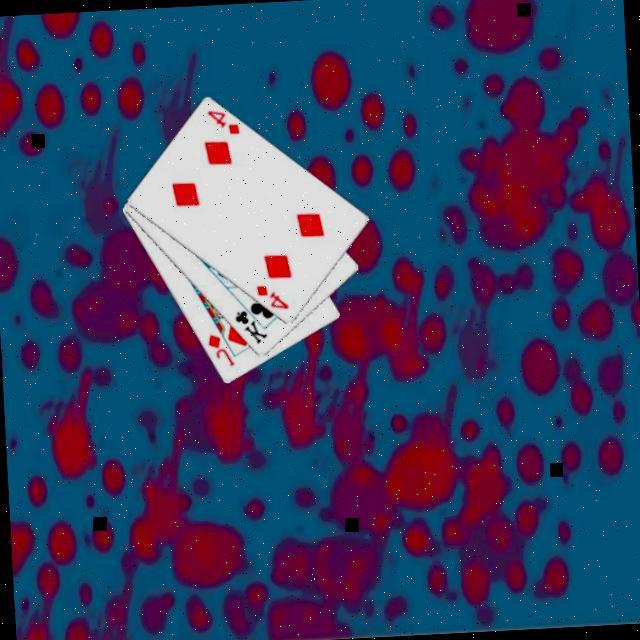4D: (252, 283, 292, 317), (202, 108, 242, 142)
JD: (203, 332, 237, 373)
KC: (230, 300, 270, 350)
